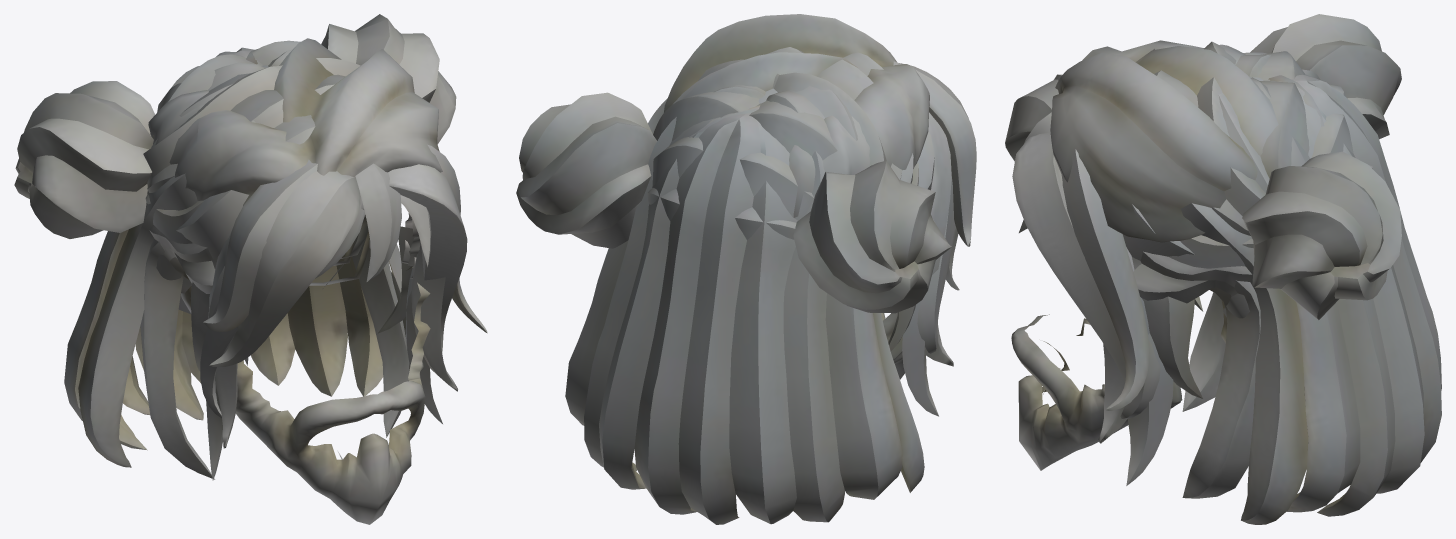
The model's file is hair.glb.
3 views of the same model, side by side, from view 1: azimuth 30°, elevation 25°; view 2: azimuth 150°, elevation 25°; view 3: azimuth 270°, elevation 25° (orthographic). The views are drawn at different scales.
Visible parts, largest first — view 1: Long, Buns, SimpleParted, Beard, Buzzed; view 2: Long, Buns, SimpleParted, Beard; view 3: Long, Buns, SimpleParted, Beard.
Boxes of the visible parts, box(x1,y1,x2,y2) form: Long: box(64, 47, 487, 479); Buns: box(14, 14, 457, 480); SimpleParted: box(148, 38, 442, 265); Beard: box(236, 266, 430, 524); Buzzed: box(181, 200, 416, 313); Long: box(565, 61, 976, 524); Buns: box(516, 47, 953, 416); SimpleParted: box(664, 14, 929, 217); Beard: box(881, 312, 904, 379); Long: box(1005, 44, 1441, 524); Buns: box(1019, 14, 1401, 485); SimpleParted: box(1050, 40, 1324, 242); Beard: box(1011, 314, 1182, 470).
Bounding box in the file's own units: 0.3015 × 0.2918 × 0.2677.
2 materials, 2 textured.
